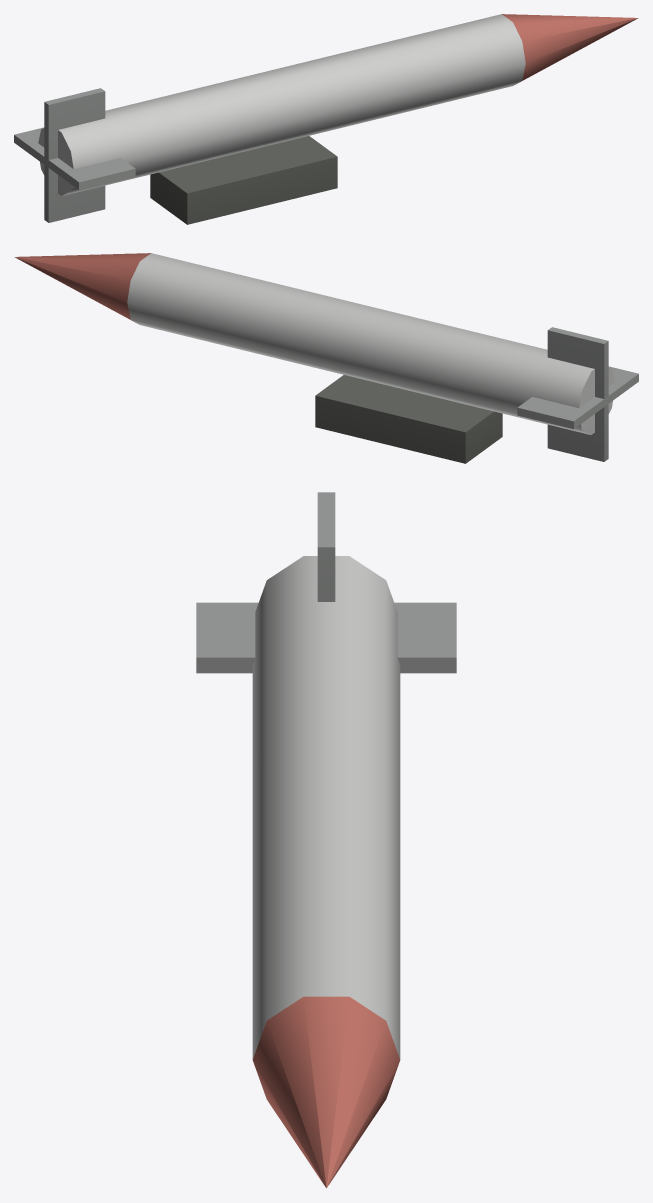
File: m_bmt_cfa41f9c.glb
The picture shows the model from 3 angles, top to bottom: view 1: azimuth 30°, elevation 25°; view 2: azimuth 150°, elevation 25°; view 3: azimuth 270°, elevation 25°; orthographic projection. The views are drawn at different scales.
Visible parts, largest first — view 1: mesh; view 2: mesh; view 3: mesh.
Boxes of the visible parts, x1,y1,x2,y2 form: mesh: (14, 14, 638, 224); mesh: (14, 253, 638, 463); mesh: (196, 492, 456, 1188).
Size of the model in its own units: 31.5 by 7 by 6.
